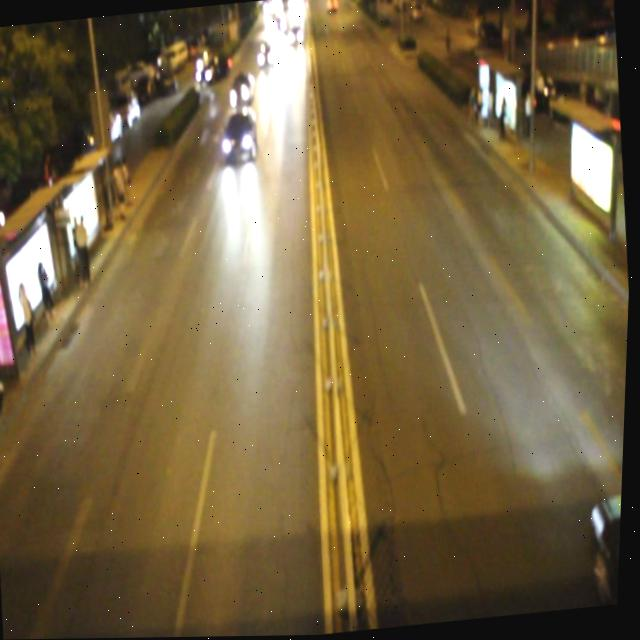car: (588, 496, 625, 608), (219, 104, 261, 163), (227, 68, 258, 107)
